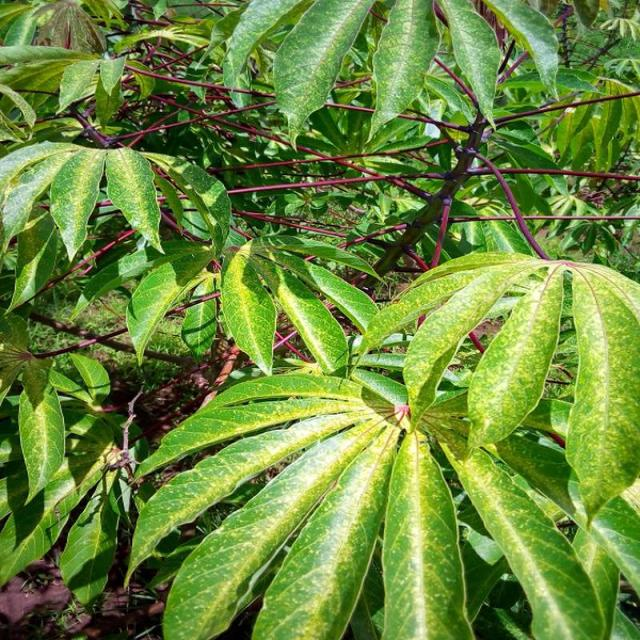cassava leaf: (125, 245, 640, 638)
